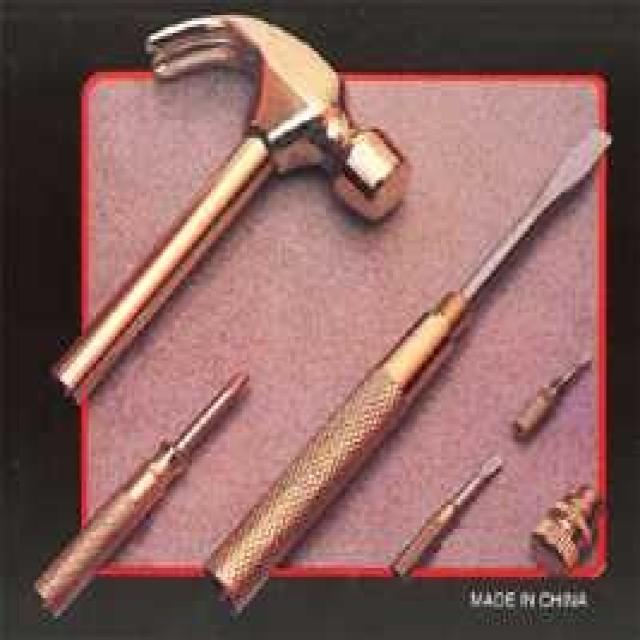hammer: (53, 16, 405, 408)
